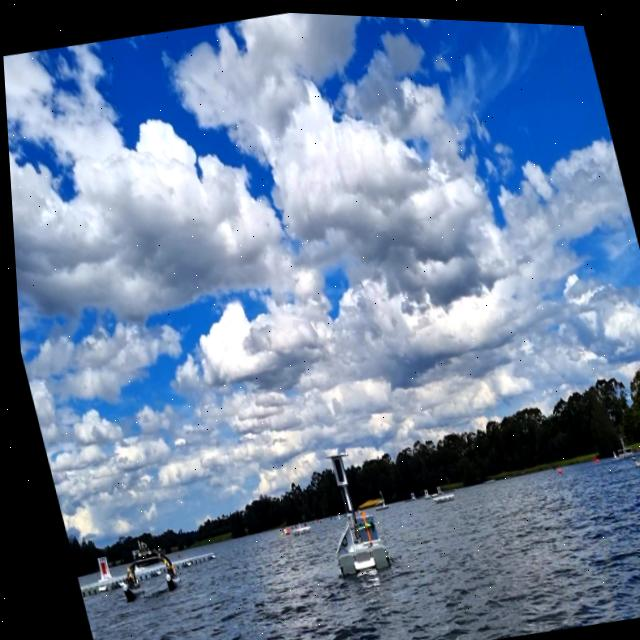led: (327, 454, 341, 482)
